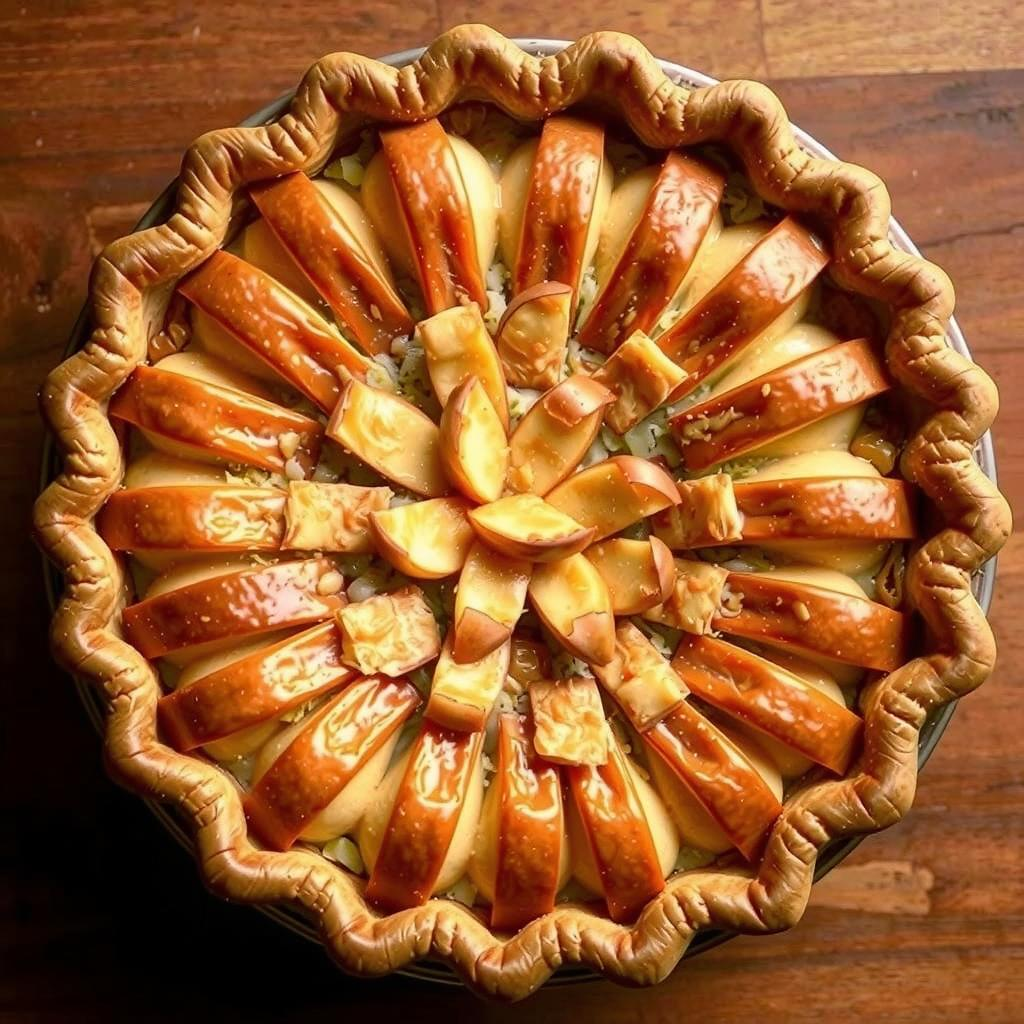pie: (29, 21, 1016, 1021)
